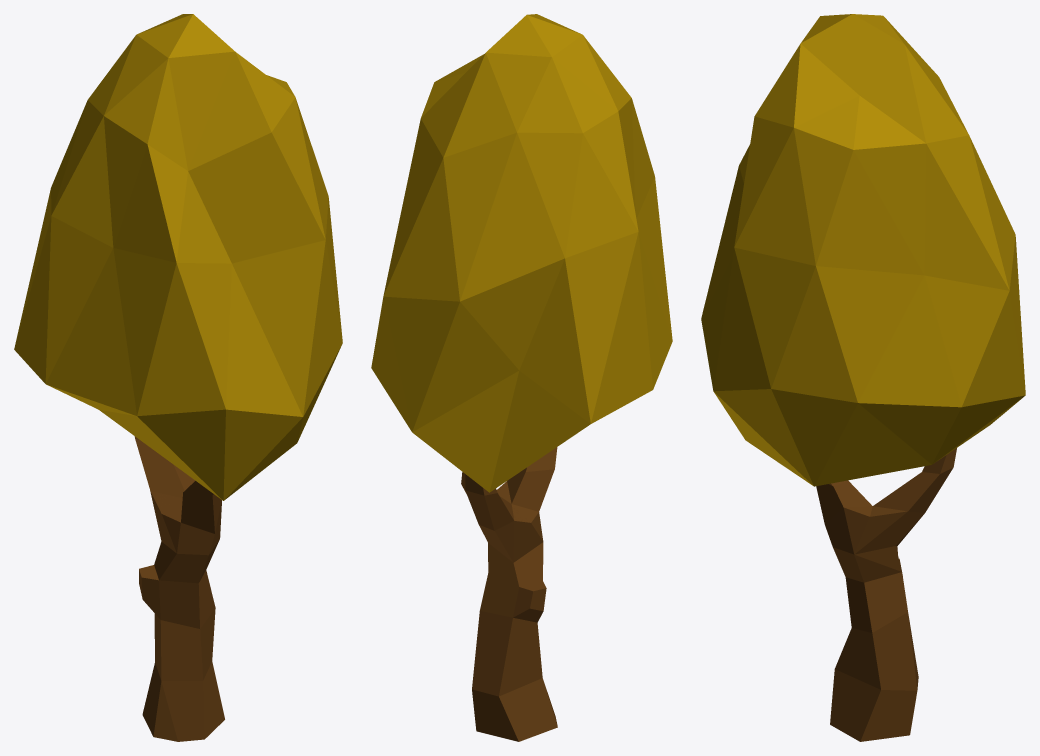
The model's file is co_Tree04_B.fbx.
3 views of the same model, side by side, from view 1: azimuth 30°, elevation 25°; view 2: azimuth 150°, elevation 25°; view 3: azimuth 270°, elevation 25° (orthographic). The views are drawn at different scales.
Visible parts, largest first — view 1: Tree04_B_LOD0; view 2: Tree04_B_LOD0; view 3: Tree04_B_LOD0.
Boxes of the visible parts, x1,y1,x2,y2 form: Tree04_B_LOD0: (14,14,342,741); Tree04_B_LOD0: (371,14,672,741); Tree04_B_LOD0: (701,14,1025,741).
Size of what is drawn, in the model's own units: 8.32 by 21.35 by 8.84.
